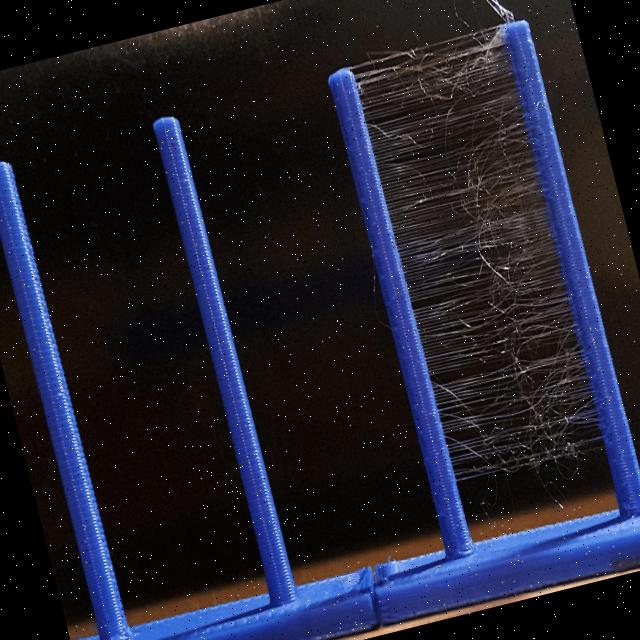stringing: (349, 22, 624, 516)
